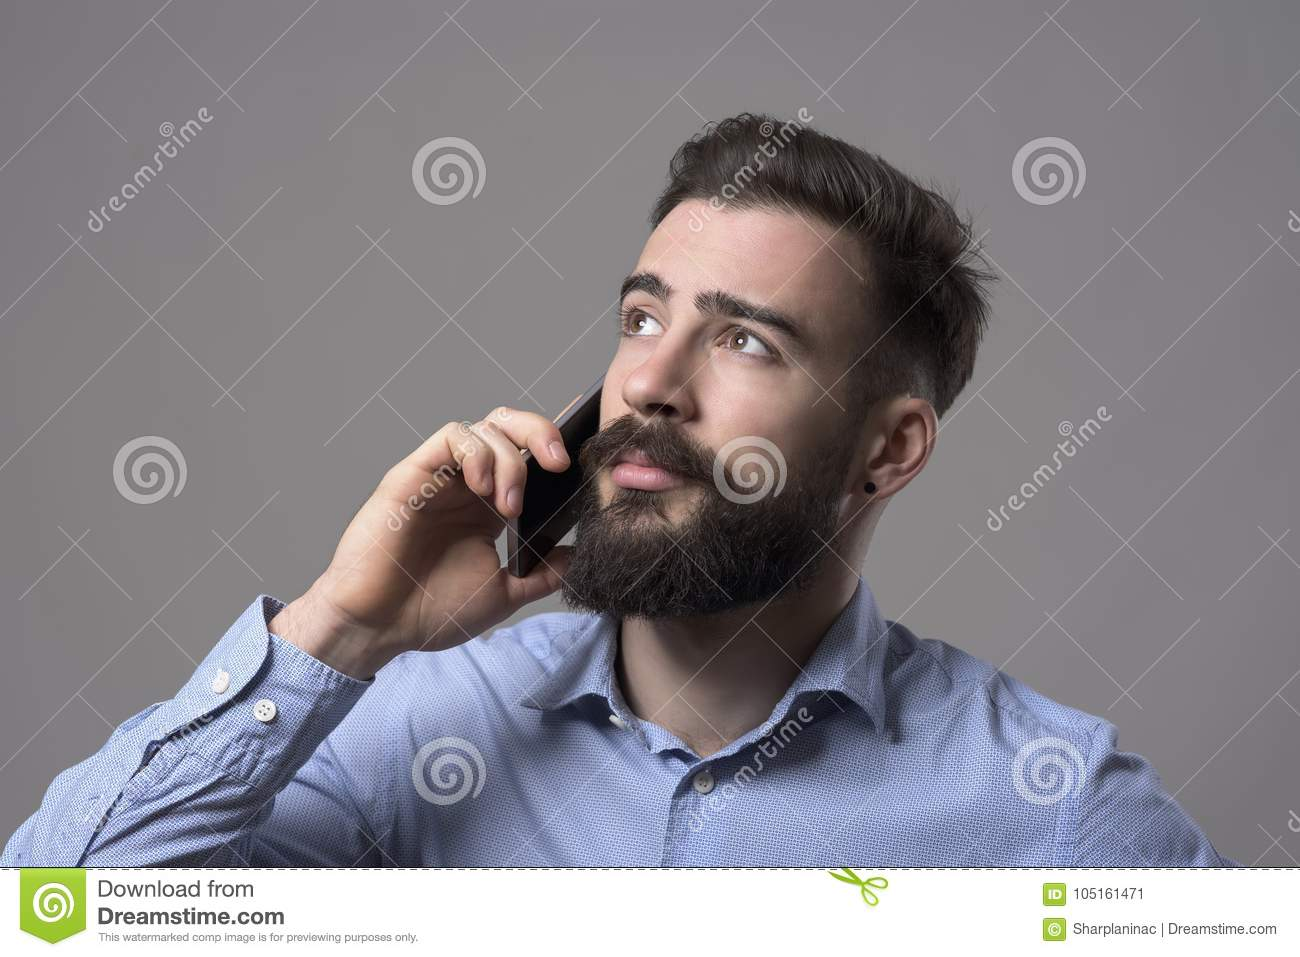phone: (501, 373, 608, 578)
talk: (324, 257, 821, 656)
